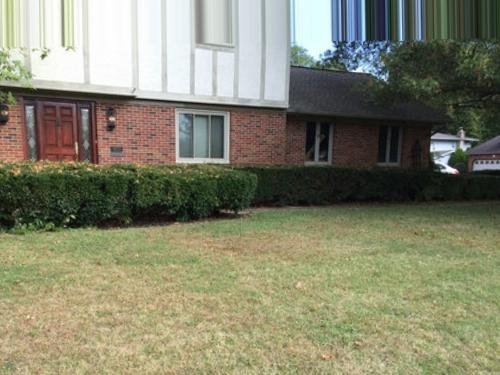patch: (31, 285, 221, 354), (210, 232, 310, 271), (388, 224, 459, 245)
